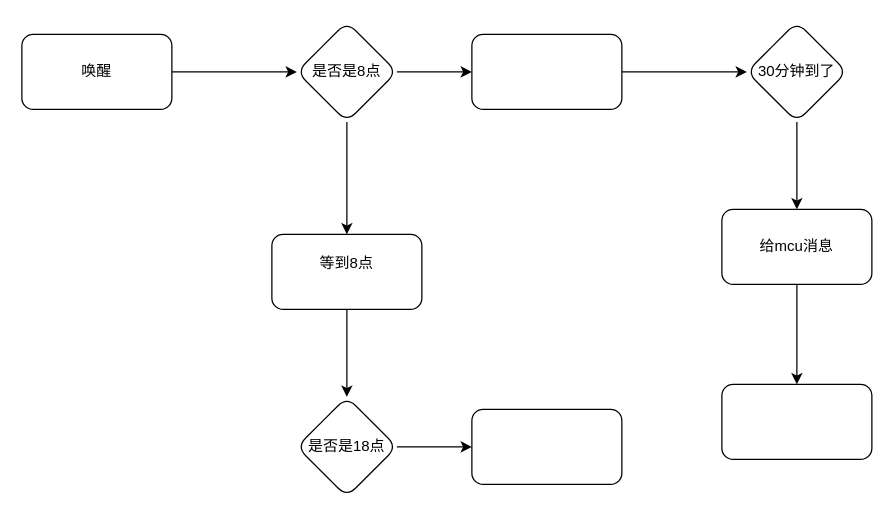
Image size: 894x519. Some labels were removed from this diagram. Each missing label, with the box of its shape:
mcu回复的消息上传到基站: (721, 383, 872, 459)
创建30分钟定时器: (471, 33, 622, 109)
删除定时器: (471, 408, 622, 484)
